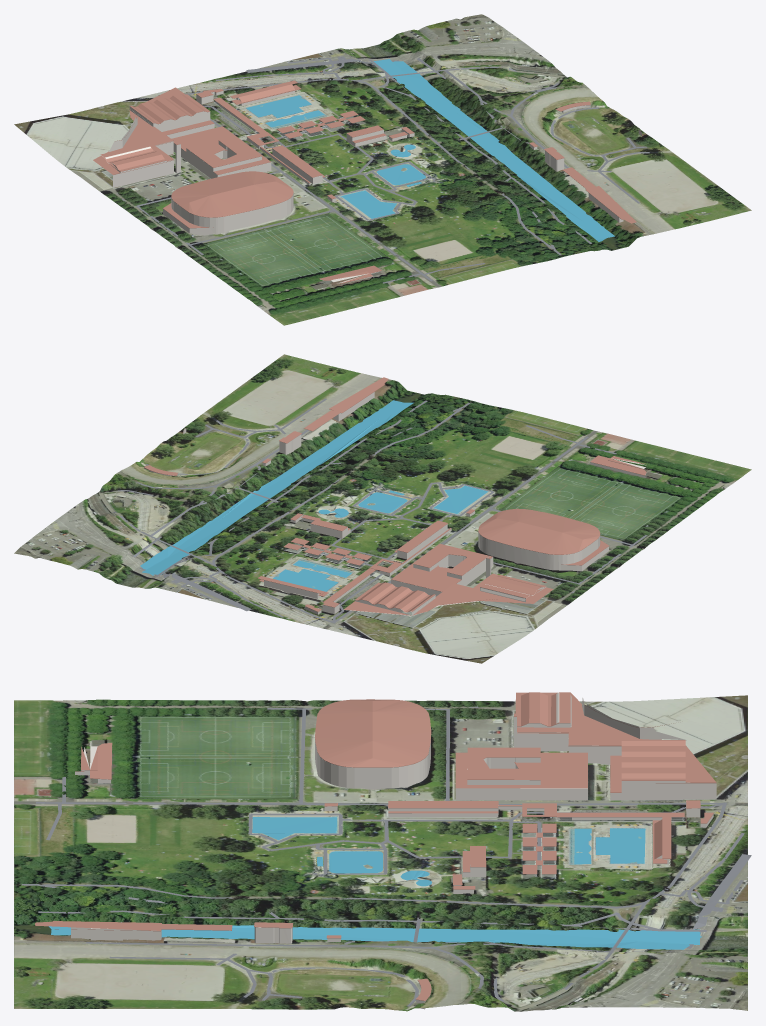
Rendered from verbund_st_jakob.glb.
3 renders of one model, top to bottom at view 1: azimuth 30°, elevation 25°; view 2: azimuth 150°, elevation 25°; view 3: azimuth 270°, elevation 25°, orthographic. The views are drawn at different scales.
Visible parts, largest first — view 1: terrain_ground, neighborhood_buildings_roofs, neighborhood_buildings_walls, osm_water_pools, osm_roads; view 2: terrain_ground, neighborhood_buildings_roofs, osm_water_pools, neighborhood_buildings_walls, osm_roads; view 3: terrain_ground, neighborhood_buildings_roofs, neighborhood_buildings_walls, osm_roads, osm_water_pools.
Part boxes in pixels (x1=…): terrain_ground: x1=14, y1=14, x2=751, y2=325; neighborhood_buildings_roofs: x1=93, y1=80, x2=640, y2=284; neighborhood_buildings_walls: x1=101, y1=90, x2=641, y2=284; osm_water_pools: x1=246, y1=59, x2=614, y2=241; osm_roads: x1=121, y1=56, x2=649, y2=283; terrain_ground: x1=14, y1=354, x2=751, y2=663; neighborhood_buildings_roofs: x1=144, y1=377, x2=646, y2=615; osm_water_pools: x1=140, y1=400, x2=488, y2=591; neighborhood_buildings_walls: x1=144, y1=392, x2=646, y2=615; osm_roads: x1=112, y1=398, x2=647, y2=623; terrain_ground: x1=14, y1=695, x2=747, y2=1011; neighborhood_buildings_roofs: x1=35, y1=692, x2=716, y2=1001; neighborhood_buildings_walls: x1=71, y1=692, x2=716, y2=1009; osm_roads: x1=22, y1=706, x2=751, y2=1006; osm_water_pools: x1=48, y1=817, x2=701, y2=949.
Size of the model in its own units: 440 by 29.7 by 442.
5 materials, 1 textured.
